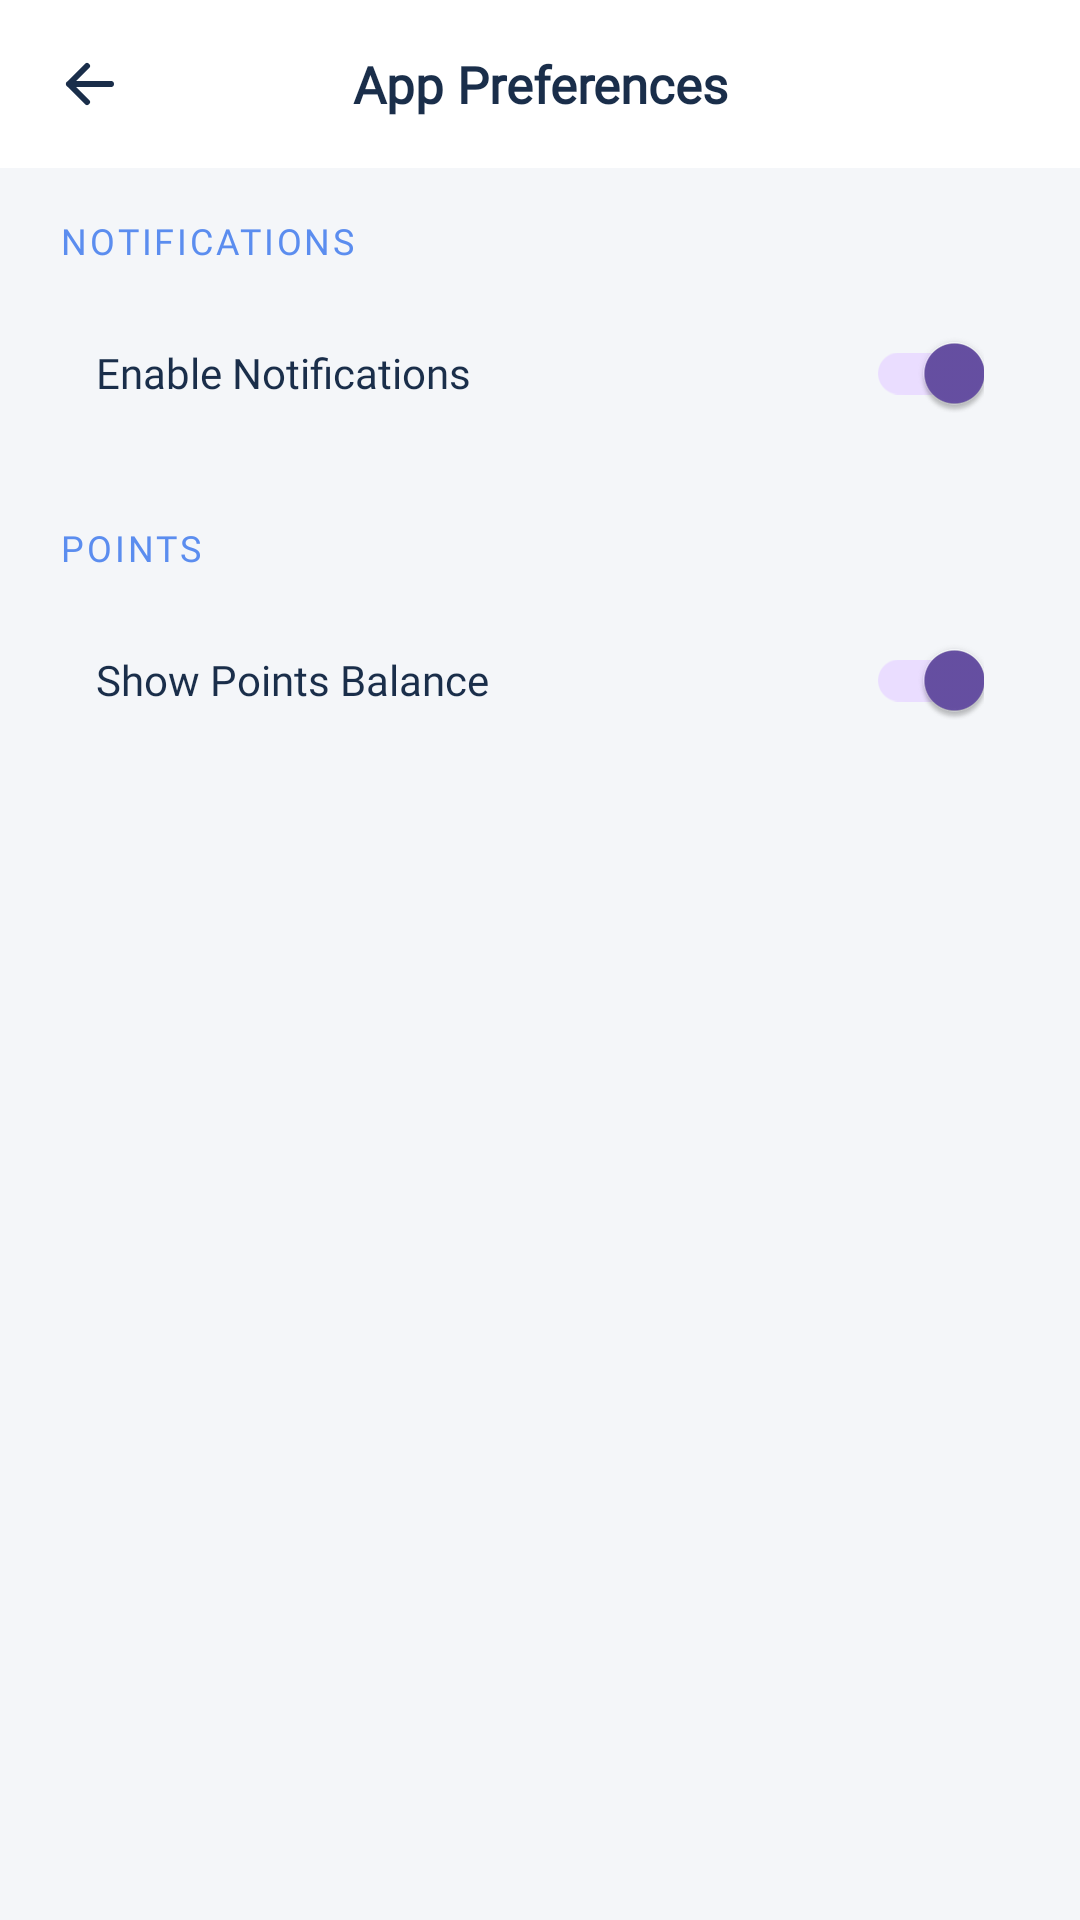

Point at icon controls on the screen. Image size 1080x1920, points as (x=x, y=y).
arrow left: (x=90, y=84)
